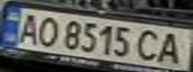1: (96, 22, 115, 56)
5: (112, 24, 136, 58), (78, 20, 100, 54)
8: (57, 17, 84, 52)
A: (154, 29, 187, 65), (12, 10, 42, 45)
C: (133, 27, 166, 62)
O: (33, 15, 63, 47)
